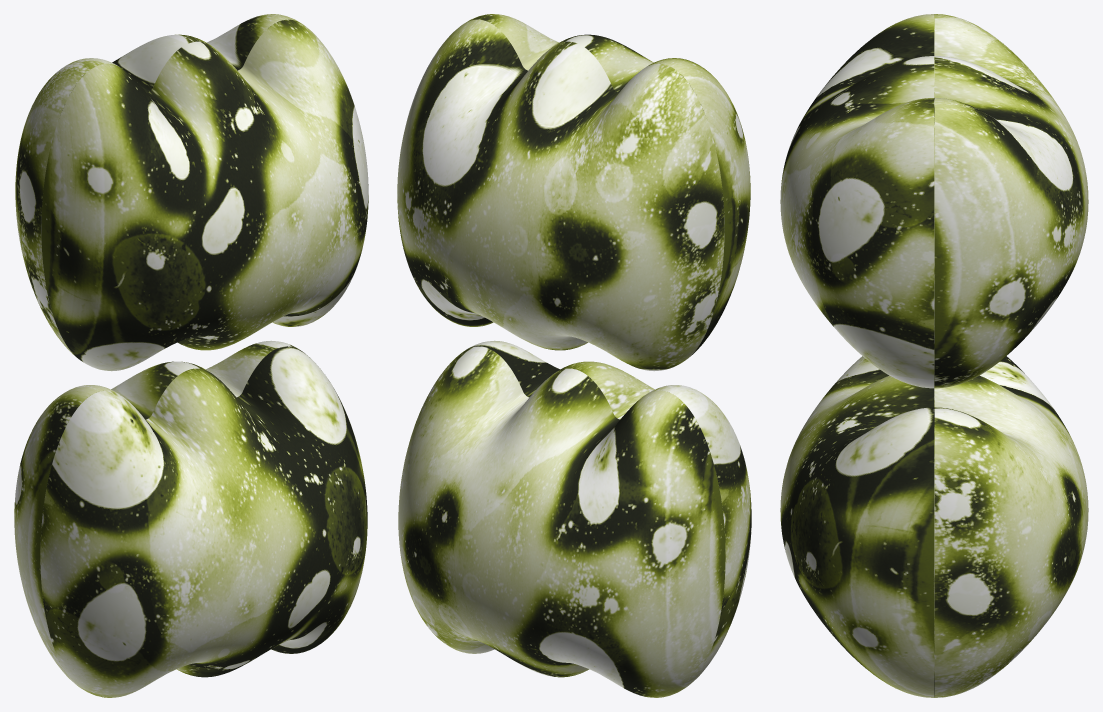
3 renders of one model, left to right at view 1: azimuth 30°, elevation 25°; view 2: azimuth 150°, elevation 25°; view 3: azimuth 270°, elevation 25°, orthographic. The views are drawn at different scales.
Visible parts, largest first — view 1: Buffer Object, Buffer Object0; view 2: Buffer Object0, Buffer Object; view 3: Buffer Object, Buffer Object0.
Part boxes in pixels (x1,y1,x2,y2): Buffer Object: [15, 14, 368, 371]; Buffer Object0: [14, 340, 367, 697]; Buffer Object0: [398, 340, 751, 697]; Buffer Object: [397, 14, 750, 371]; Buffer Object: [780, 14, 1088, 388]; Buffer Object0: [780, 356, 1088, 697].
Size of the model in its own units: 0.1543 by 0.3058 by 0.1434.
Materials: 1 (1 with a texture image).
